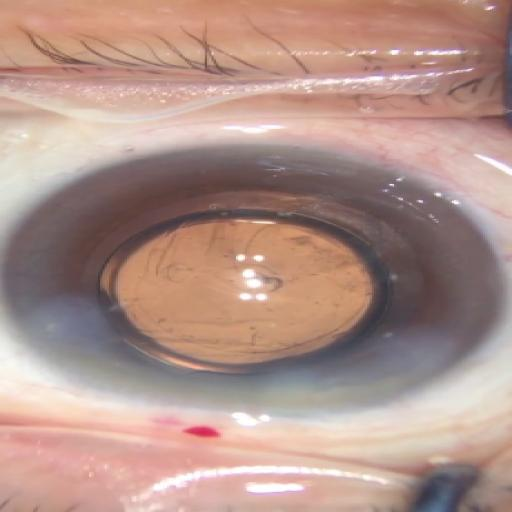catarata: (1, 145, 505, 418)
cornea: (99, 213, 390, 375)
